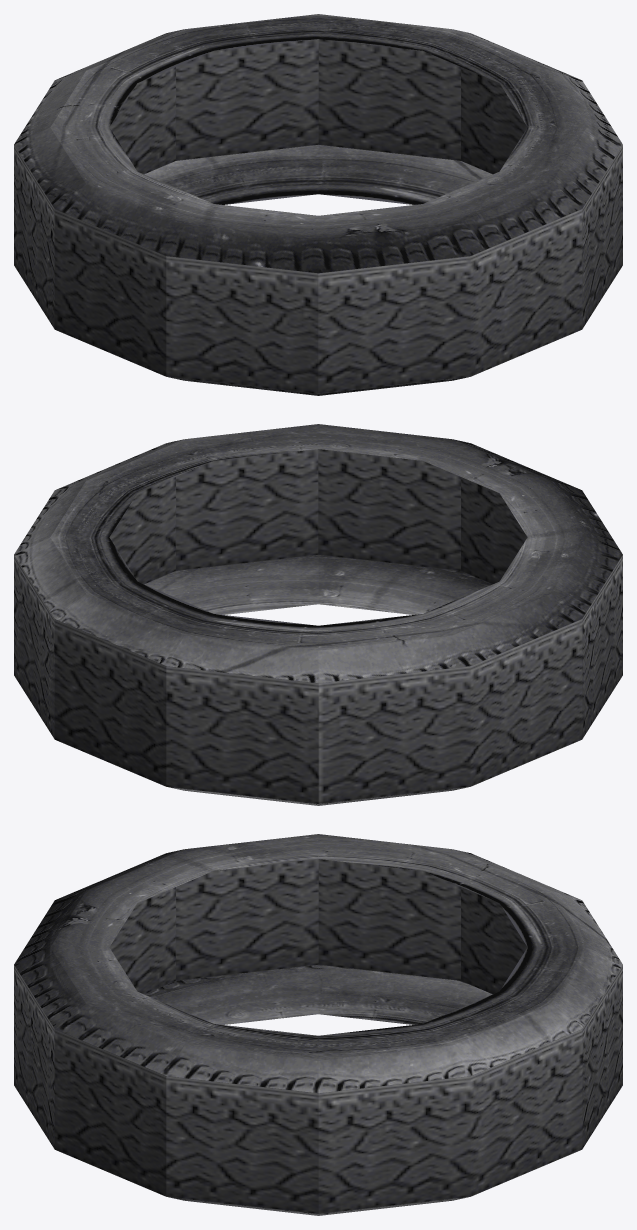
The model's file is tire.fbx.
3 views of the same model, one above another, from view 1: azimuth 30°, elevation 25°; view 2: azimuth 150°, elevation 25°; view 3: azimuth 270°, elevation 25° (orthographic).
Parts seen in each view (by area): view 1: tire_Layer1; view 2: tire_Layer1; view 3: tire_Layer1.
Part boxes in pixels (x1,y1,x2,y2): tire_Layer1: (14,14,622,395); tire_Layer1: (14,424,622,805); tire_Layer1: (14,834,622,1215).
Size of the model in its own units: 64 by 18 by 64.
Materials: 1 (1 with a texture image).
